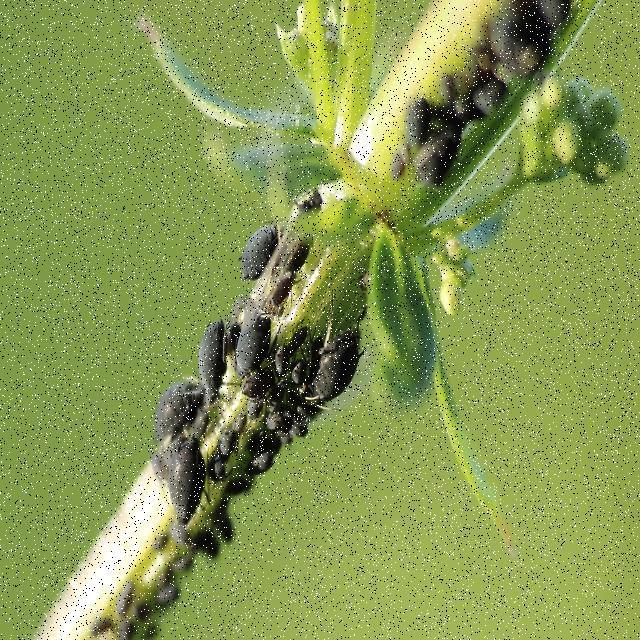Aphids: (396, 95, 484, 200), (177, 294, 235, 400), (310, 317, 364, 403), (157, 426, 207, 518), (226, 313, 286, 380), (231, 203, 281, 278), (268, 241, 319, 308), (398, 89, 437, 148), (298, 167, 330, 231)
